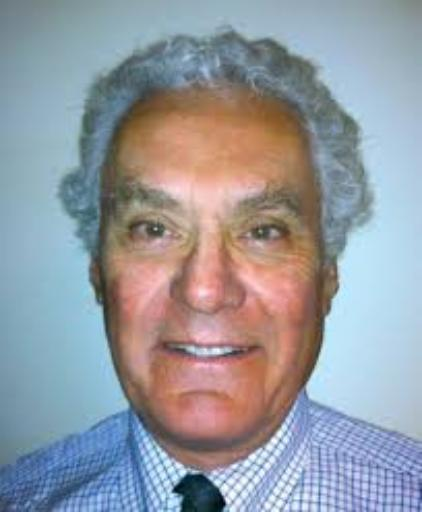left_eye: (238, 224, 293, 250)
left_lip_corner: (250, 339, 274, 360)
right_eye: (129, 219, 183, 248)
right_lip_corner: (151, 338, 179, 359)
